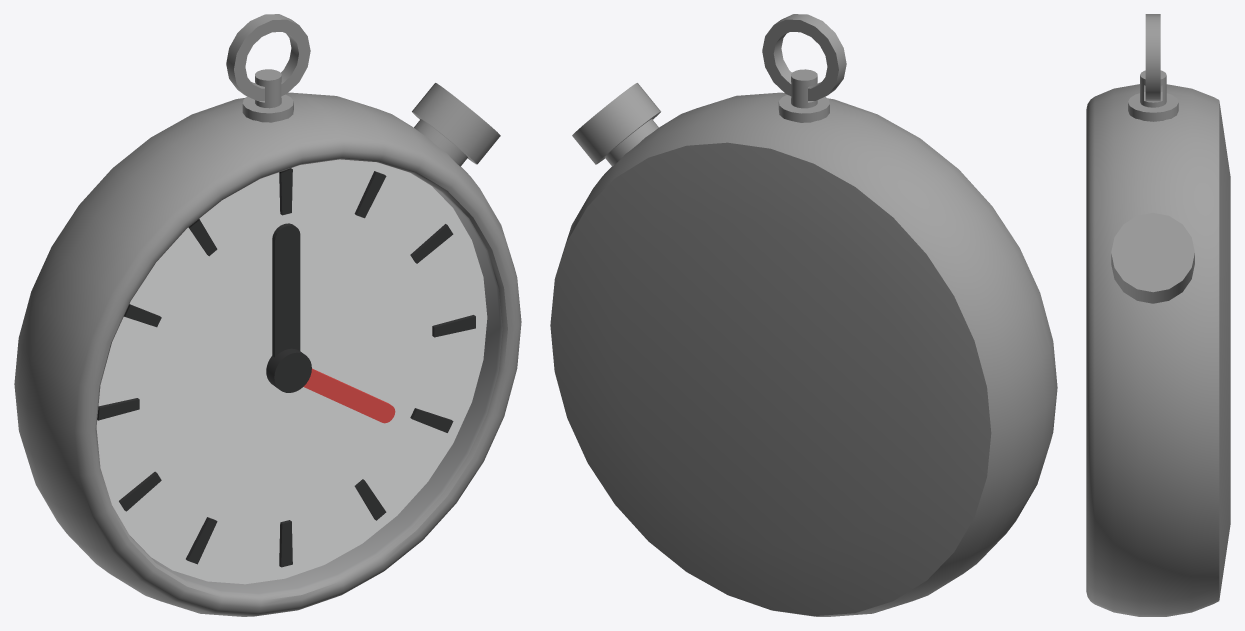
Rendered from stopwatch.glb.
The picture shows the model from 3 angles, left to right: view 1: azimuth 30°, elevation 25°; view 2: azimuth 150°, elevation 25°; view 3: azimuth 270°, elevation 25°; orthographic projection.
Visible parts, largest first — view 1: Circle.2419, Circle.2420, Circle.2422, Cylinder.462, Plane.246, Plane.247; view 2: Circle.2419, Circle.2422, Cylinder.462; view 3: Circle.2419, Cylinder.462, Circle.2422.
Part boxes in pixels (x1,y1,x2,y2): Circle.2419: (14,92,521,616); Circle.2420: (97,168,475,567); Circle.2422: (226,14,310,122); Cylinder.462: (412,83,500,166); Plane.246: (272,223,300,357); Plane.247: (303,368,395,423); Circle.2419: (550,92,1057,616); Circle.2422: (762,14,846,122); Cylinder.462: (572,83,660,166); Circle.2419: (1086,84,1230,616); Cylinder.462: (1111,213,1194,303); Circle.2422: (1128,14,1178,121).
Bounding box in the file's own units: 1.98 × 2.36 × 0.5359.
Materials: 2 (1 with a texture image).
